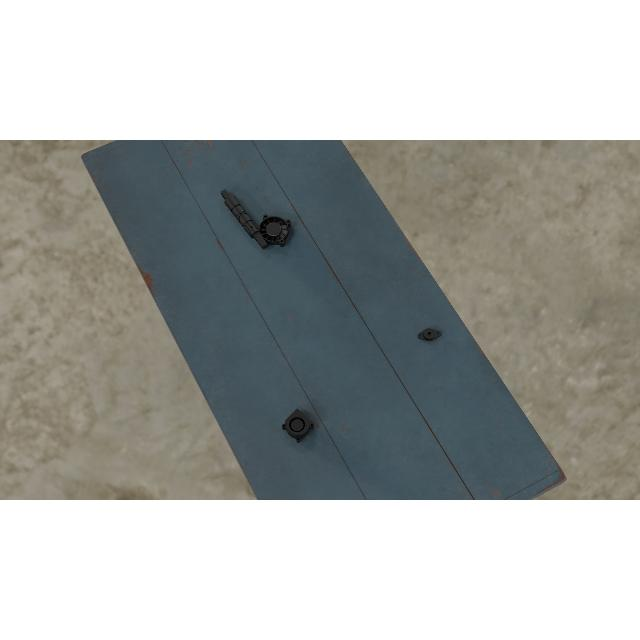Pieza1: (218, 185, 270, 252)
Pieza2: (416, 326, 442, 342)
Pieza3: (281, 408, 315, 444)
Pieza4: (255, 214, 292, 248)
